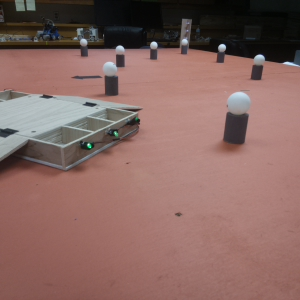corner: (182, 19, 192, 50)
obstacle: (224, 92, 249, 146), (103, 63, 119, 97), (250, 54, 265, 81), (115, 45, 125, 66), (216, 44, 227, 63), (79, 38, 89, 58), (149, 41, 158, 61), (179, 38, 188, 56)
side: (62, 116, 142, 169)
slope: (41, 91, 141, 110), (1, 129, 30, 172)
start: (71, 72, 101, 82)
